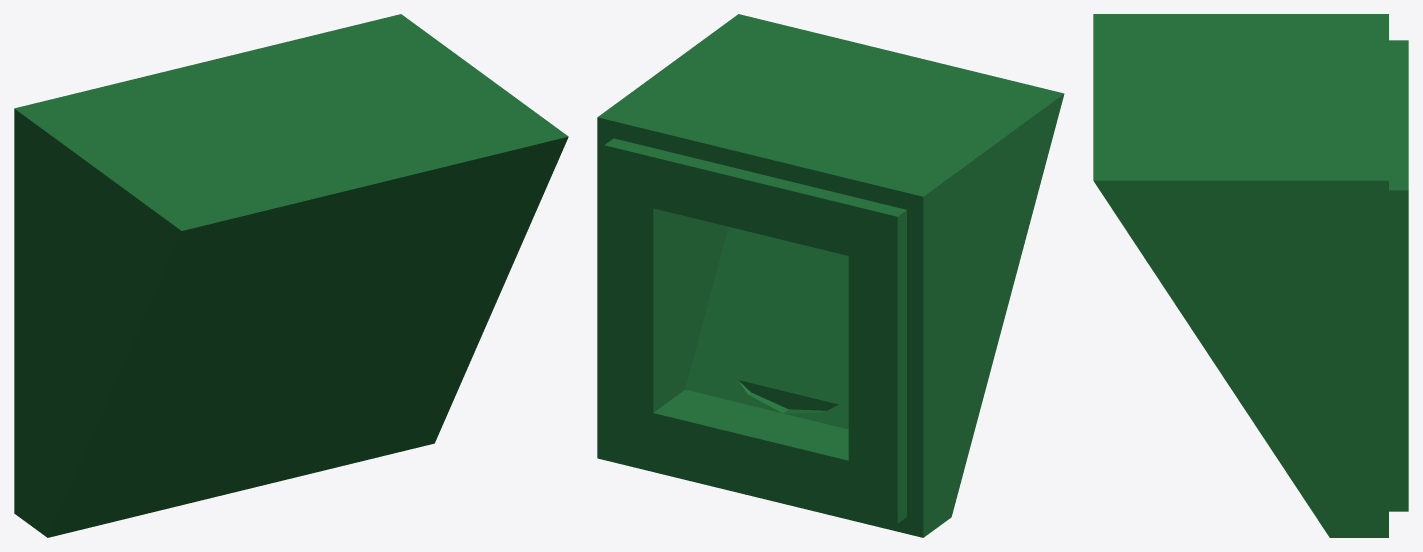
3 renders of one model, left to right at view 1: azimuth 30°, elevation 25°; view 2: azimuth 150°, elevation 25°; view 3: azimuth 270°, elevation 25°, orthographic. The views are drawn at different scales.
Parts seen in each view (by area): view 1: mesh_1; view 2: mesh_1, box4; view 3: mesh_1, box4.
Boxes of the visible parts, bbox=[...] form: mesh_1: bbox=[14, 14, 568, 537]; mesh_1: bbox=[597, 14, 1064, 537]; box4: bbox=[604, 138, 906, 523]; mesh_1: bbox=[1093, 14, 1388, 537]; box4: bbox=[1389, 40, 1408, 511].
Size of the model in its own units: 20 by 20 by 16.
